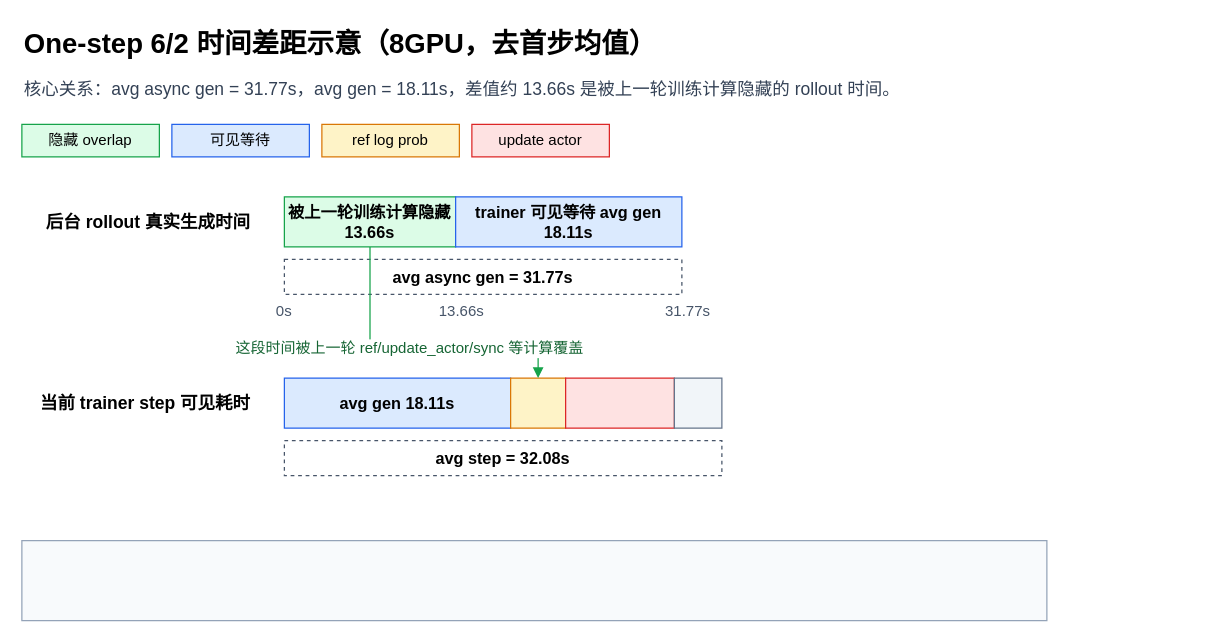
Image size: 1219x643. Some labels were removed from this diagram. Each missing label, with the centre of its shape:
avg ref 4.39s: (x=537, y=402)
avg update_actor 8.71s: (x=619, y=402)
other 0.87s: (x=697, y=402)
因此 avg async gen 大于 avg gen 不是重复生成，而是统计口径不同：前者是真实生成总时长，后者是 trainer 没能隐藏掉的等待时长。: (x=534, y=580)
